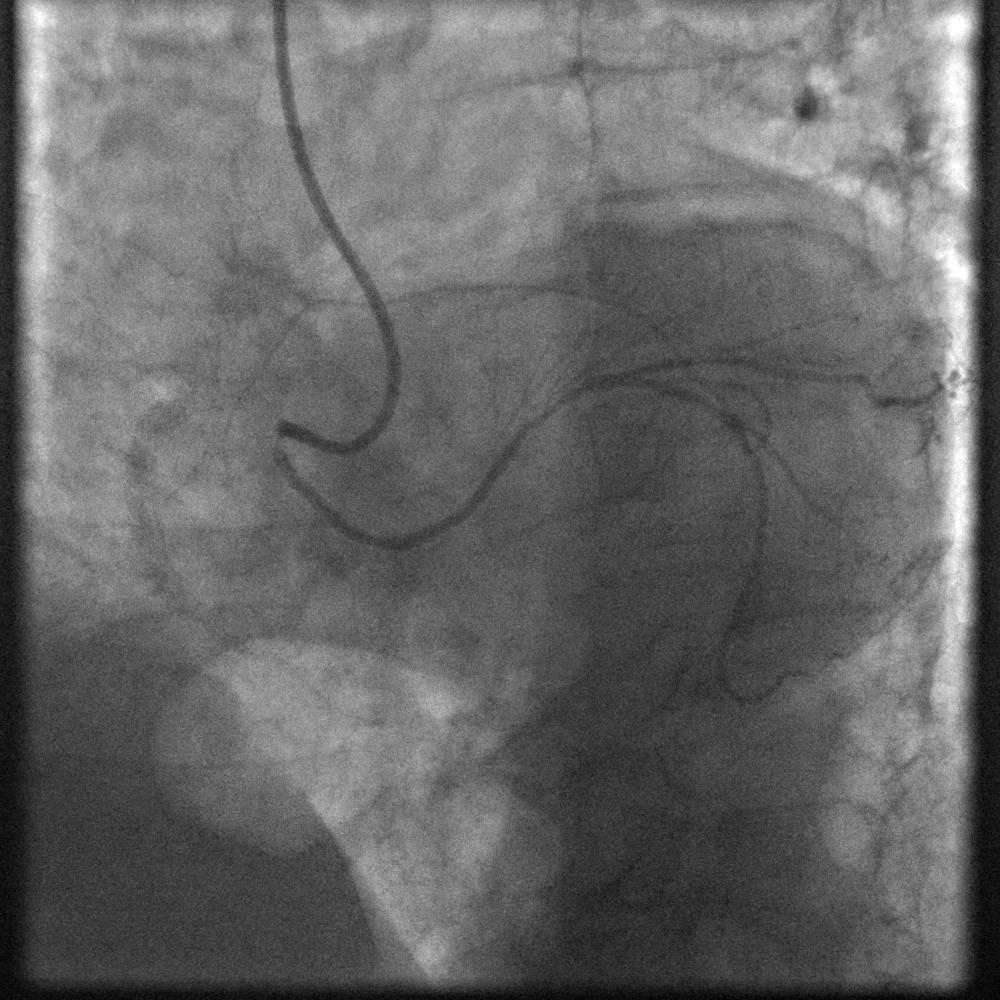Stenosis: (519, 380, 571, 433)
